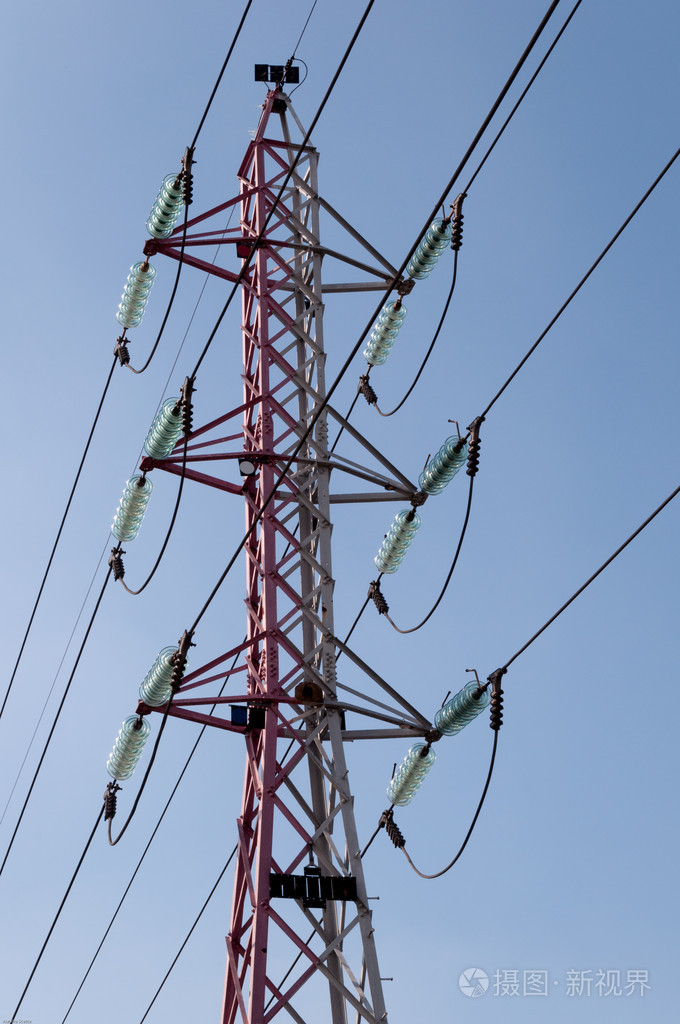insulator: (383, 743, 434, 809), (416, 433, 470, 495), (432, 679, 484, 739), (114, 260, 157, 329), (140, 643, 184, 710), (108, 469, 149, 539), (373, 509, 416, 571), (147, 173, 184, 243), (146, 393, 185, 459), (105, 717, 148, 776), (410, 214, 450, 275), (364, 302, 397, 364)
